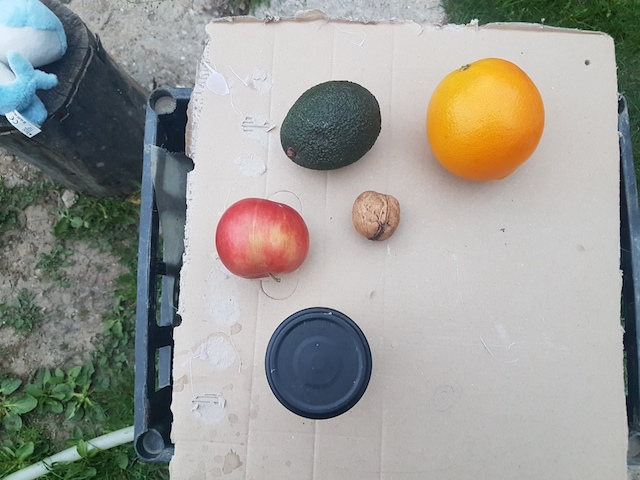apple: (209, 199, 313, 278)
avocado: (278, 79, 385, 172)
nut: (348, 186, 405, 245)
orange: (426, 55, 547, 186)
recipient: (264, 305, 385, 419)
